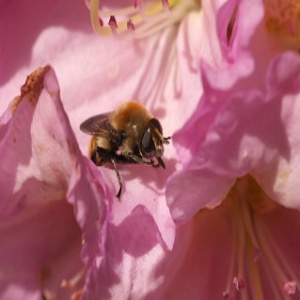bee: (79, 96, 174, 199)
